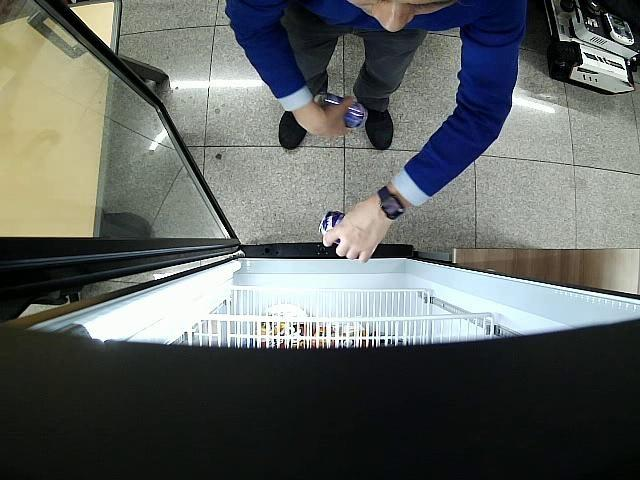14_welchsGrape: (314, 93, 368, 127), (318, 211, 346, 243)
